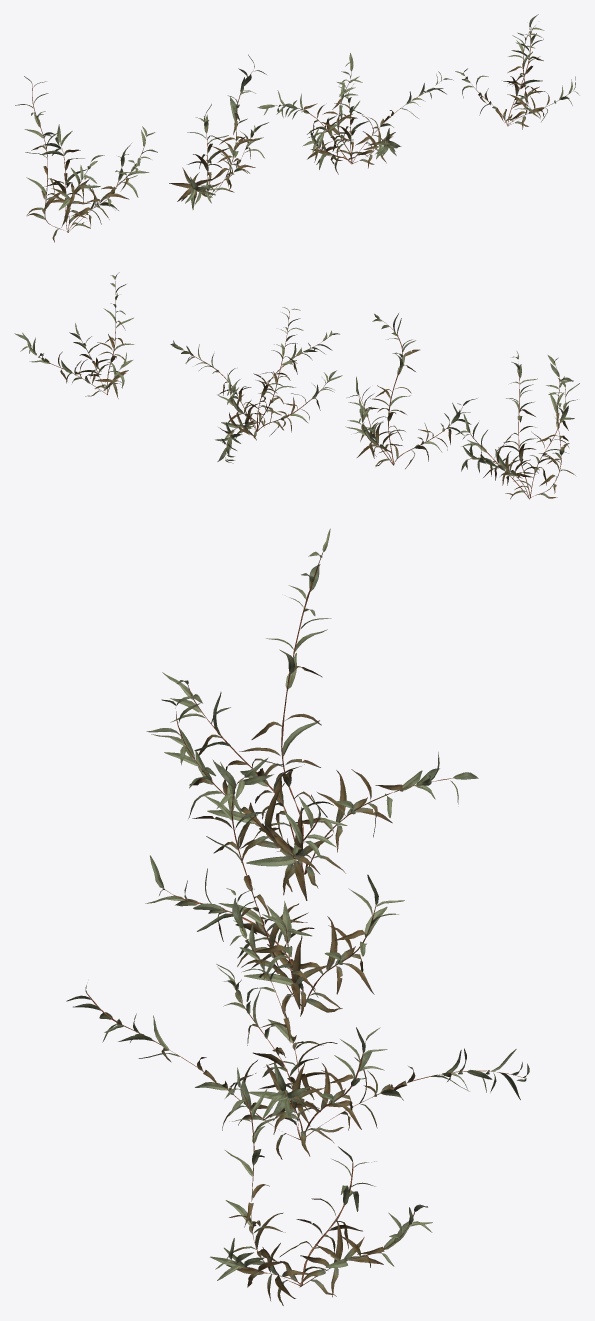
The model's file is shrub_02.glb.
3 renders of one model, top to bottom at view 1: azimuth 30°, elevation 25°; view 2: azimuth 150°, elevation 25°; view 3: azimuth 270°, elevation 25°, orthographic. The views are drawn at different scales.
Visible parts, largest first — view 1: shrub_02_a; view 2: shrub_02_a; view 3: shrub_02_a.
Part boxes in pixels (x1,y1,x2,y2): shrub_02_a: [15, 14, 579, 242]; shrub_02_a: [14, 272, 579, 499]; shrub_02_a: [66, 528, 529, 1305].
Size of the model in its own units: 6.05 by 1.7 by 2.29.
1 material, 1 textured.
